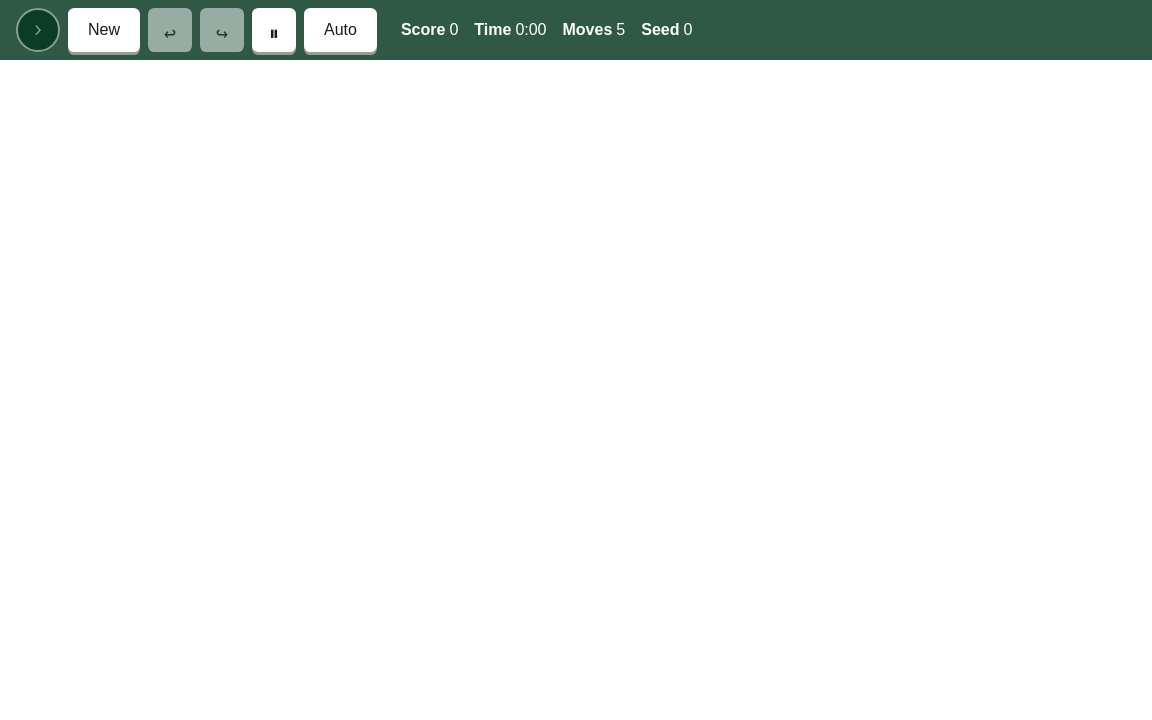
Scenario: GameToolbar › discard confirmation › asks for confirmation before discarding an in-progress, unfinished game
Click the button with aria-label "New Game": (104, 30) [68,8,140,52]
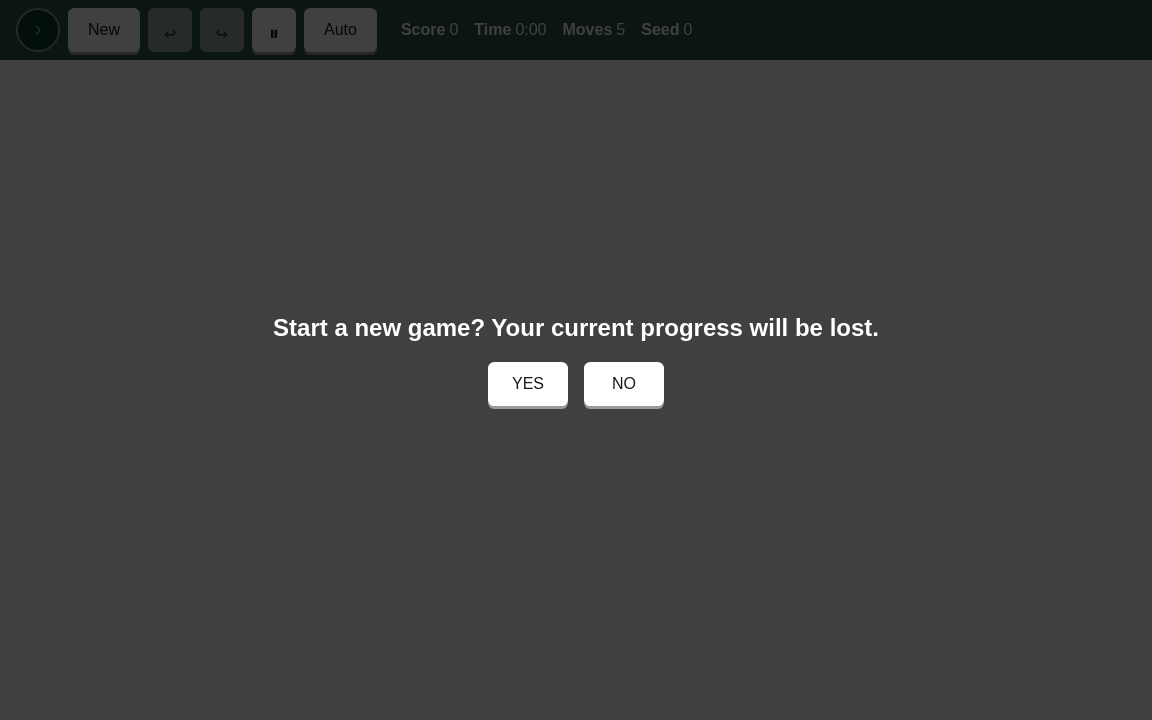
Check: the dialog with class "discard-confirm" is shown
